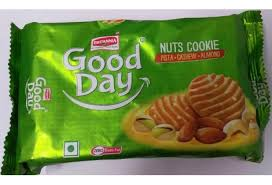gooday-medium: (20, 23, 270, 158)
